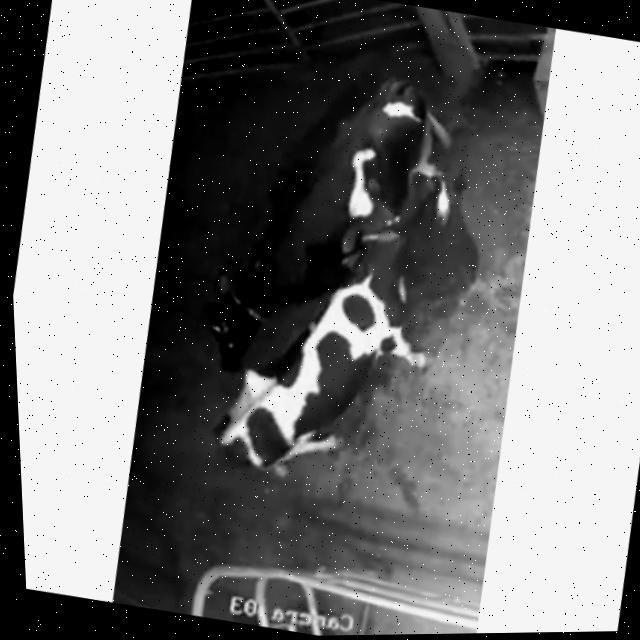propping: (307, 125, 448, 282)
